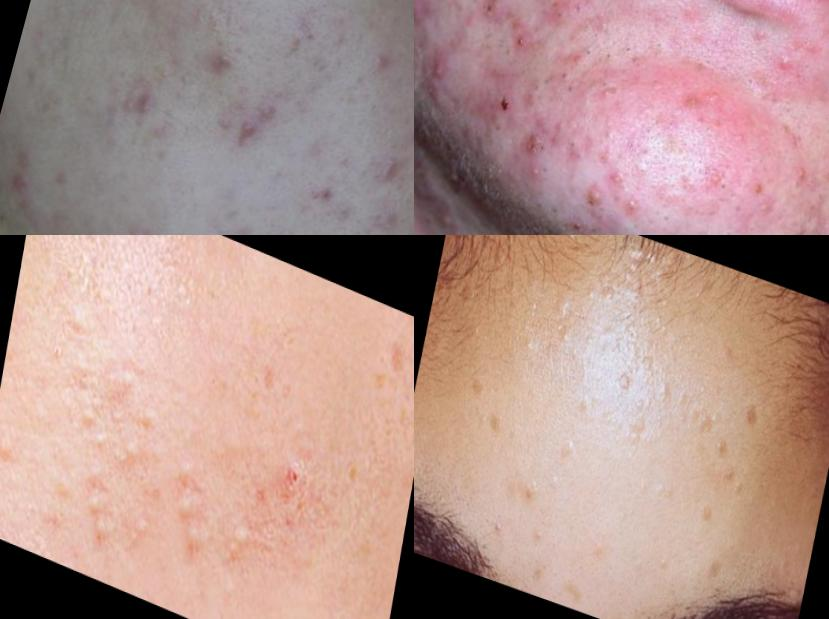blackhead: (554, 129, 604, 172), (621, 149, 668, 188), (358, 39, 398, 81), (525, 67, 559, 100), (555, 72, 589, 104), (329, 146, 358, 179), (549, 61, 581, 88), (618, 39, 642, 62), (655, 205, 679, 228), (596, 45, 618, 70), (576, 41, 597, 61)
flat_wart: (596, 359, 643, 403), (556, 423, 593, 477), (565, 385, 603, 433), (707, 434, 740, 467)
papular: (669, 72, 736, 132), (689, 154, 747, 206), (104, 76, 165, 125), (415, 49, 468, 104), (242, 90, 292, 132), (367, 147, 408, 195), (512, 117, 553, 158), (535, 1, 592, 30), (518, 151, 556, 191), (303, 174, 338, 212), (747, 192, 785, 225), (1, 164, 35, 199), (784, 160, 820, 193), (506, 23, 539, 58), (781, 212, 818, 236), (471, 1, 510, 23), (415, 1, 442, 32)
purulent: (228, 116, 267, 153), (576, 178, 615, 213), (761, 47, 800, 81), (611, 187, 650, 221), (206, 48, 244, 82)
whitehead: (156, 450, 222, 567), (70, 445, 122, 552), (217, 497, 262, 588), (580, 66, 643, 129), (58, 292, 95, 342), (1, 422, 23, 472), (511, 329, 539, 368), (644, 472, 671, 511), (649, 367, 674, 407), (647, 544, 676, 576), (486, 515, 513, 549), (521, 523, 545, 559), (671, 386, 688, 414)
